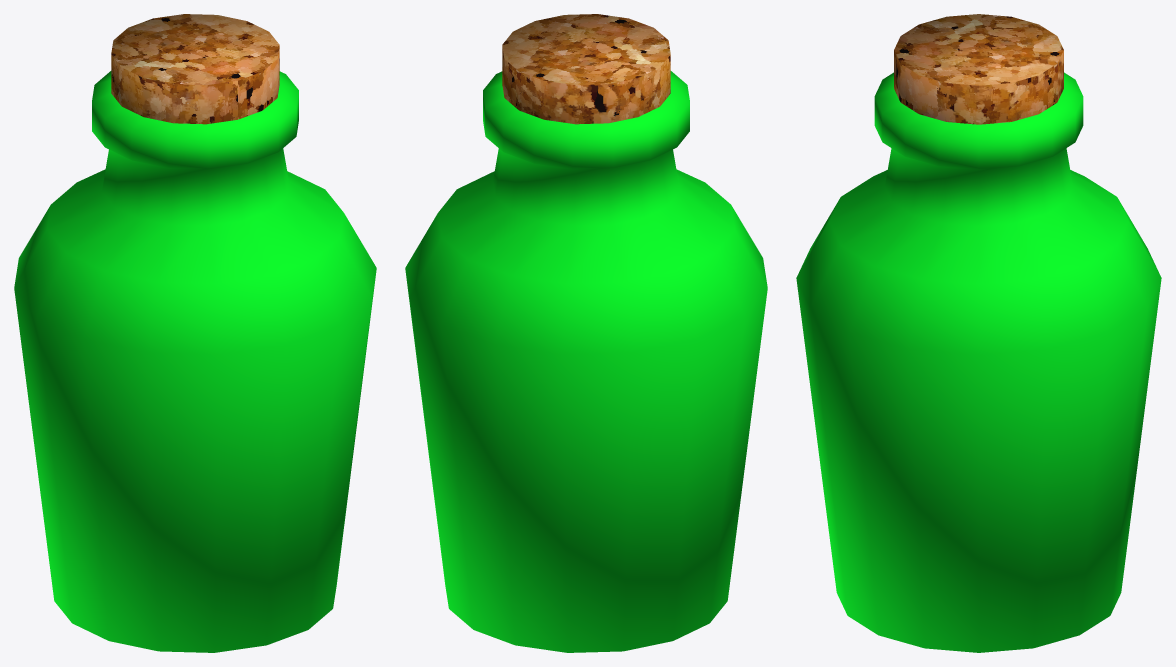
The model's file is Potion.fbx.
3 renders of one model, left to right at view 1: azimuth 30°, elevation 25°; view 2: azimuth 150°, elevation 25°; view 3: azimuth 270°, elevation 25°, orthographic.
Visible parts, largest first — view 1: Potion; view 2: Potion; view 3: Potion.
Boxes of the visible parts, <box> form: Potion: <box>14,14,376,652</box>; Potion: <box>405,14,767,652</box>; Potion: <box>796,14,1161,652</box>.
Bounding box in the file's own units: 50.01 × 82.02 × 50.01.
Materials: 1 (1 with a texture image).
